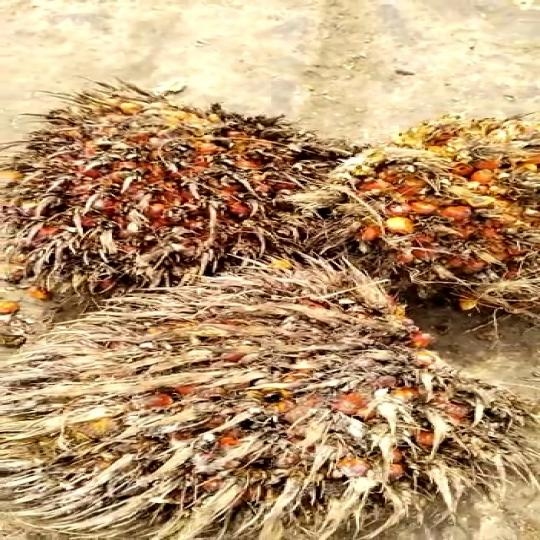terlalu masak: (0, 259, 524, 540), (0, 102, 392, 272), (323, 110, 540, 291)
